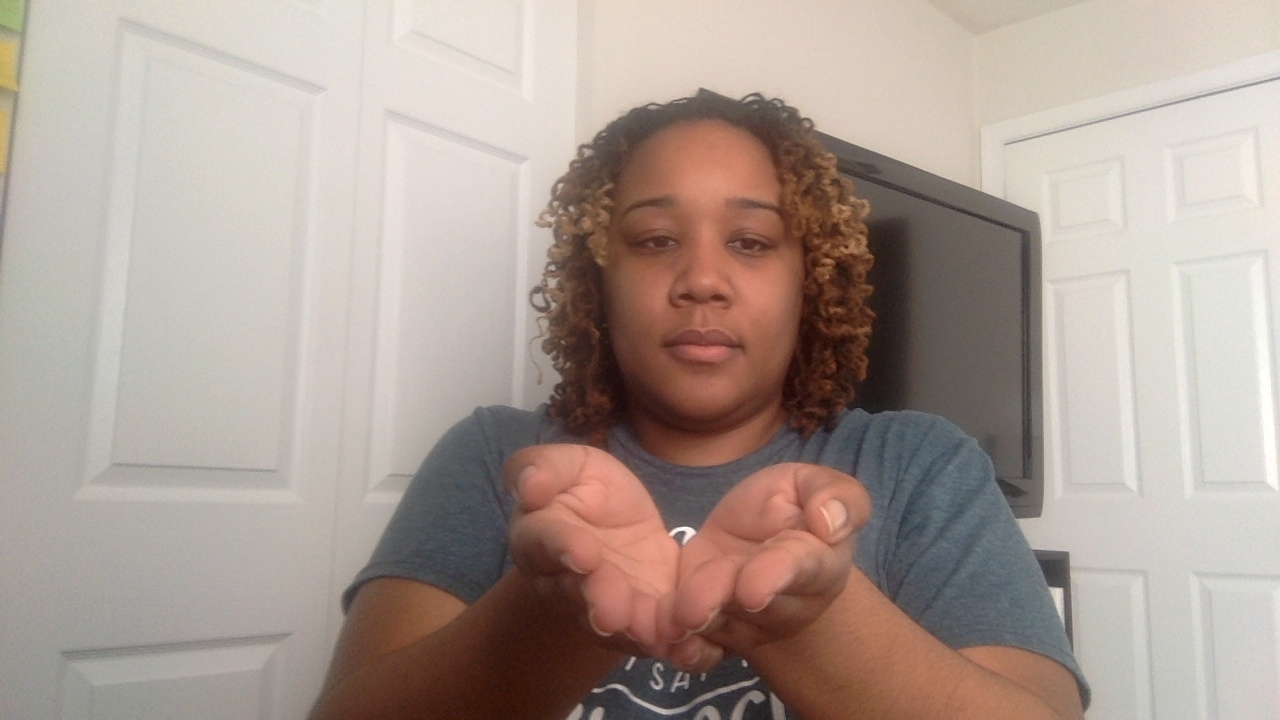book: (486, 442, 892, 677)
